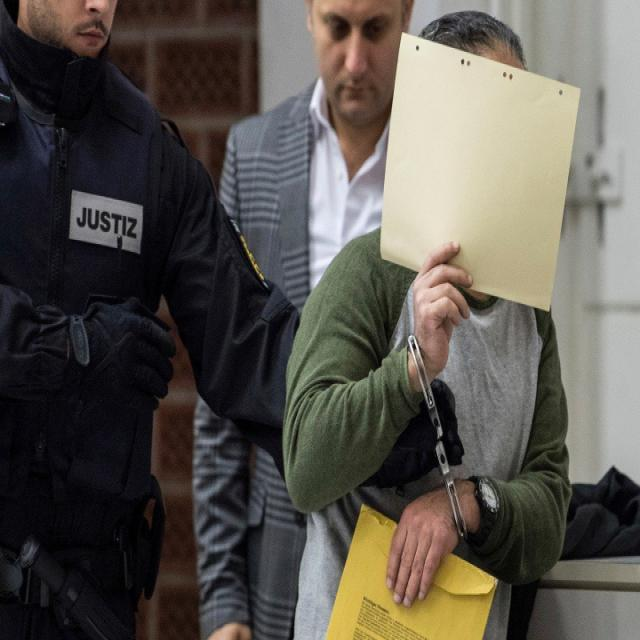body: (0, 1, 471, 640), (280, 8, 573, 637), (192, 0, 420, 639)
